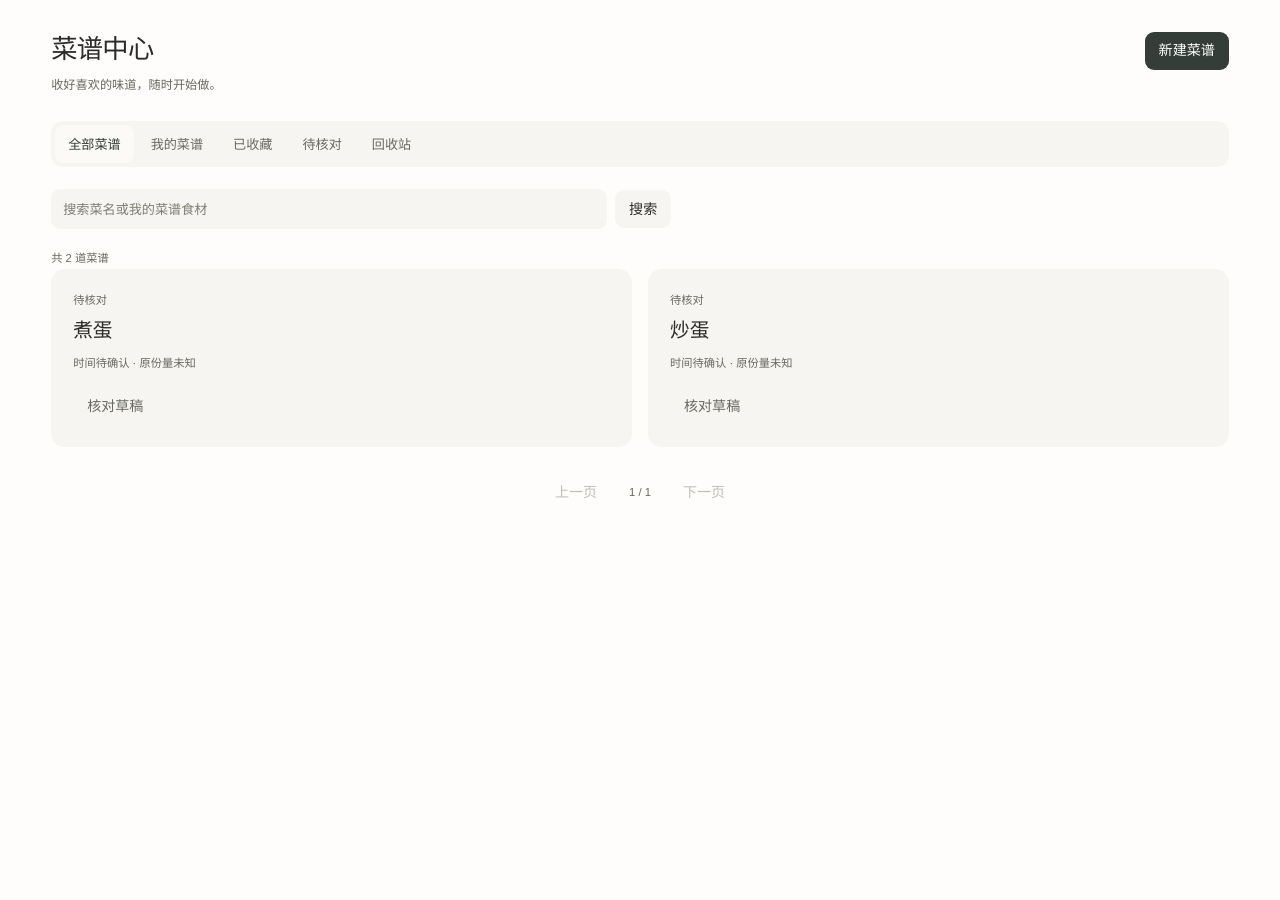
Scenario: center request lifecycles › ignores a late recipe detail after opening a different recipe
Click the button with aria-label "核对煮蛋".
click(93, 330)  # box top-left (73, 316), bottom-right (113, 345)
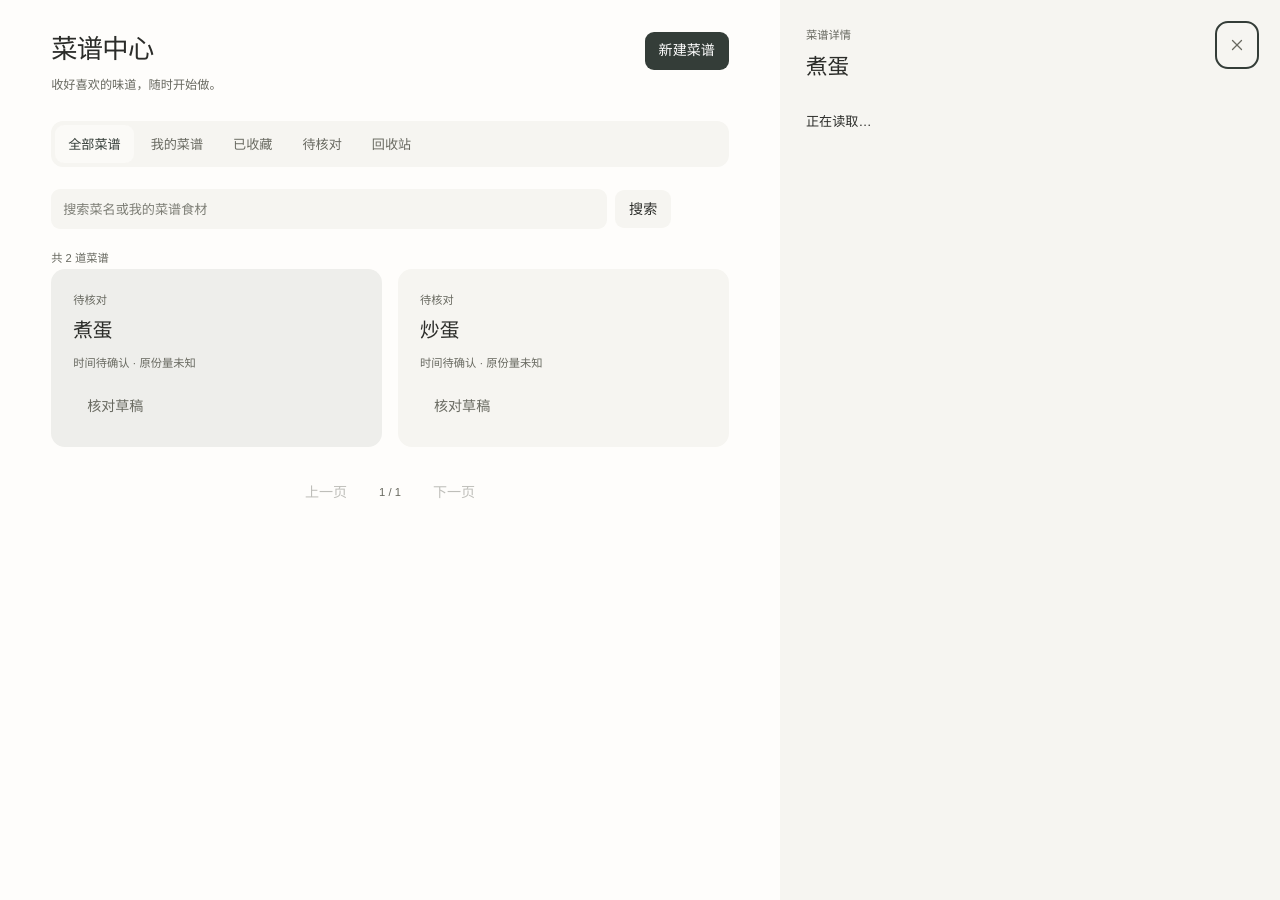
Click the button with aria-label "核对炒蛋".
click(440, 330)  # box top-left (420, 316), bottom-right (459, 345)
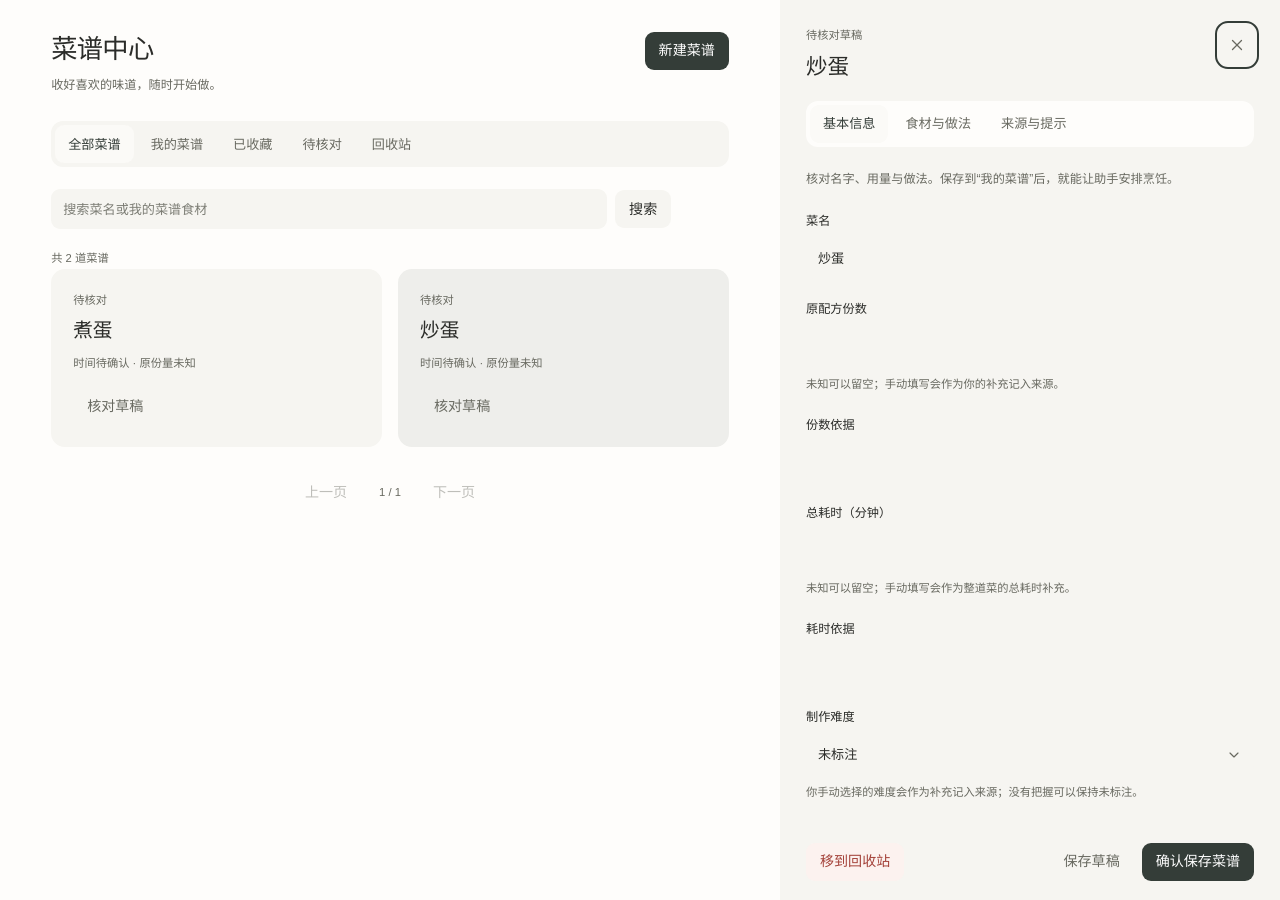
Expected: the field labelled "菜名" holds "炒蛋", top-left (806, 239), bottom-right (1254, 279)
